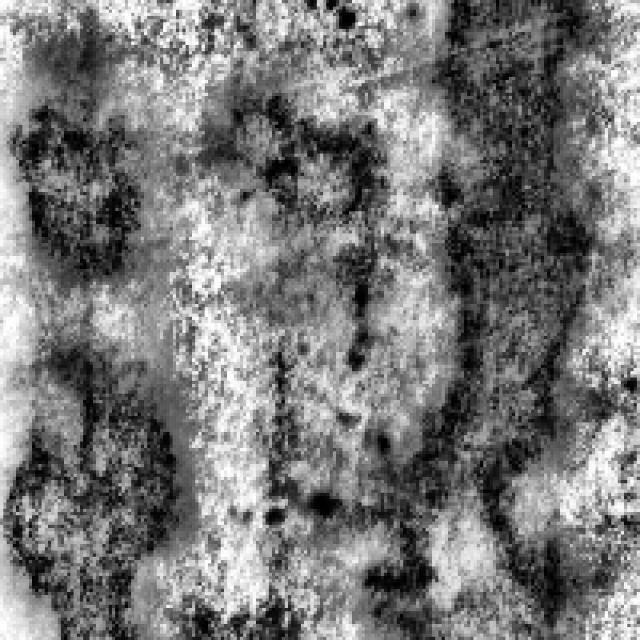Scratches: (412, 0, 628, 512), (316, 403, 570, 634), (0, 336, 189, 634), (198, 80, 406, 339), (0, 38, 147, 278)
